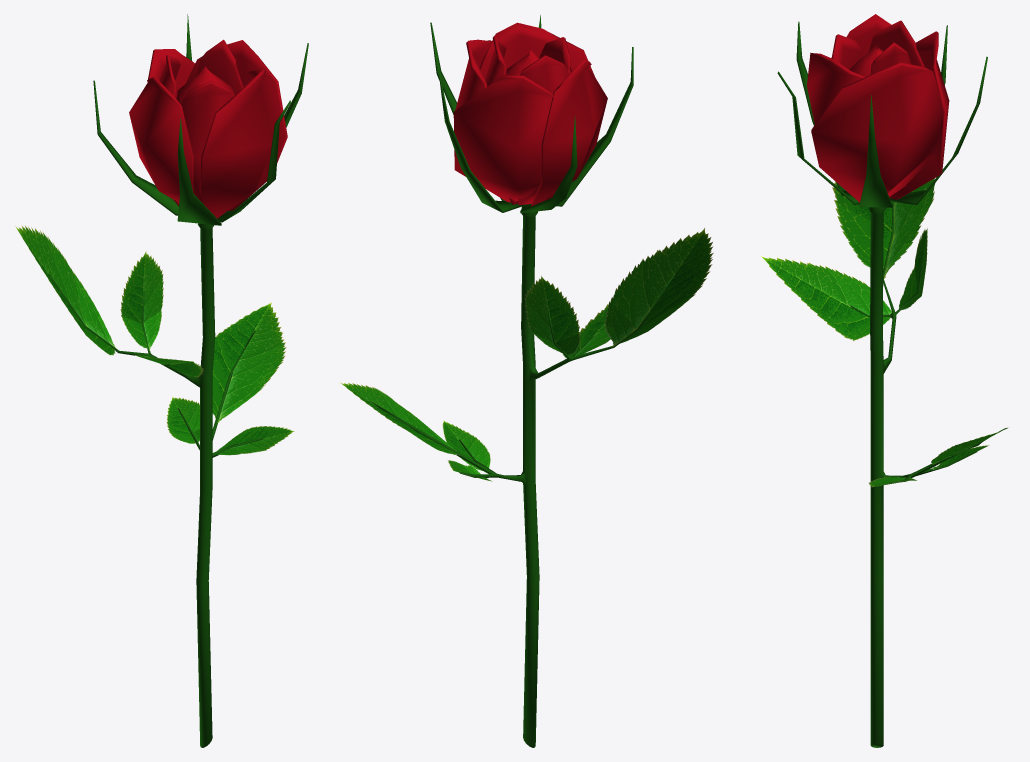
The model's file is single_stem_rose.glb.
The picture shows the model from 3 angles, left to right: view 1: azimuth 30°, elevation 25°; view 2: azimuth 150°, elevation 25°; view 3: azimuth 270°, elevation 25°; orthographic projection. The views are drawn at different scales.
Visible parts, largest first — view 1: Cylinder; view 2: Cylinder; view 3: Cylinder.
Boxes of the visible parts, x1=… form: Cylinder: x1=15, y1=14, x2=308, y2=747; Cylinder: x1=339, y1=15, x2=713, y2=747; Cylinder: x1=761, y1=14, x2=1008, y2=747.
Size of the model in its own units: 0.24 by 0.5138 by 0.1666.
3 materials, 1 textured.
